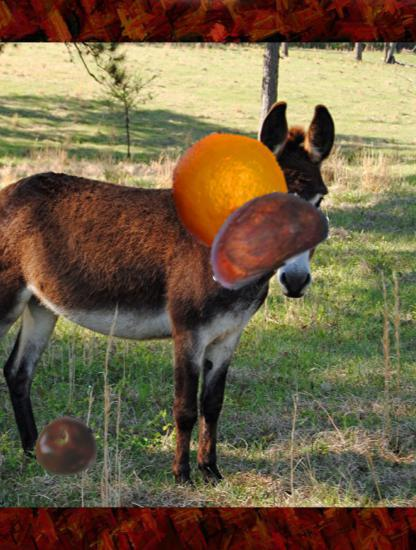Chestnut: (199, 170, 329, 300)
Lemon: (168, 130, 292, 254)
Tomato: (33, 416, 97, 480)
